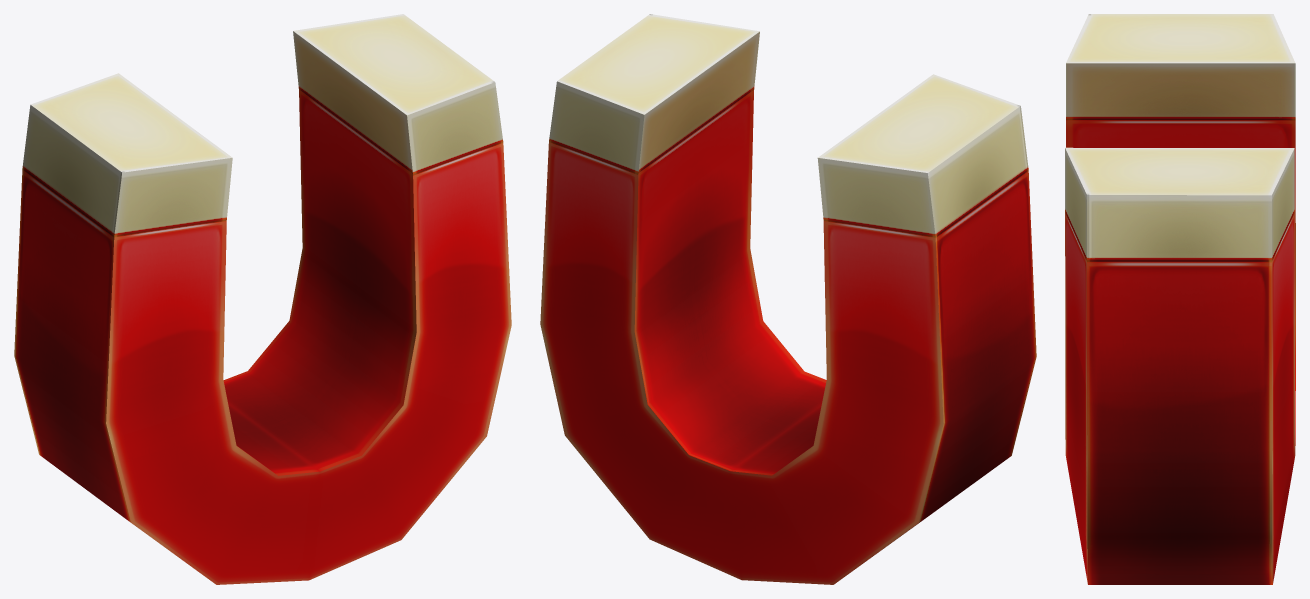
The model's file is bon_magnet.FBX.
3 views of the same model, side by side, from view 1: azimuth 30°, elevation 25°; view 2: azimuth 150°, elevation 25°; view 3: azimuth 270°, elevation 25° (orthographic).
Parts seen in each view (by area): view 1: bon_magnet; view 2: bon_magnet; view 3: bon_magnet.
Boxes of the visible parts, box(x1,y1,x2,y2) form: bon_magnet: box(14, 14, 511, 584); bon_magnet: box(540, 14, 1036, 584); bon_magnet: box(1065, 14, 1295, 584).
Size of the model in its own units: 51.08 by 54.64 by 25.21.
